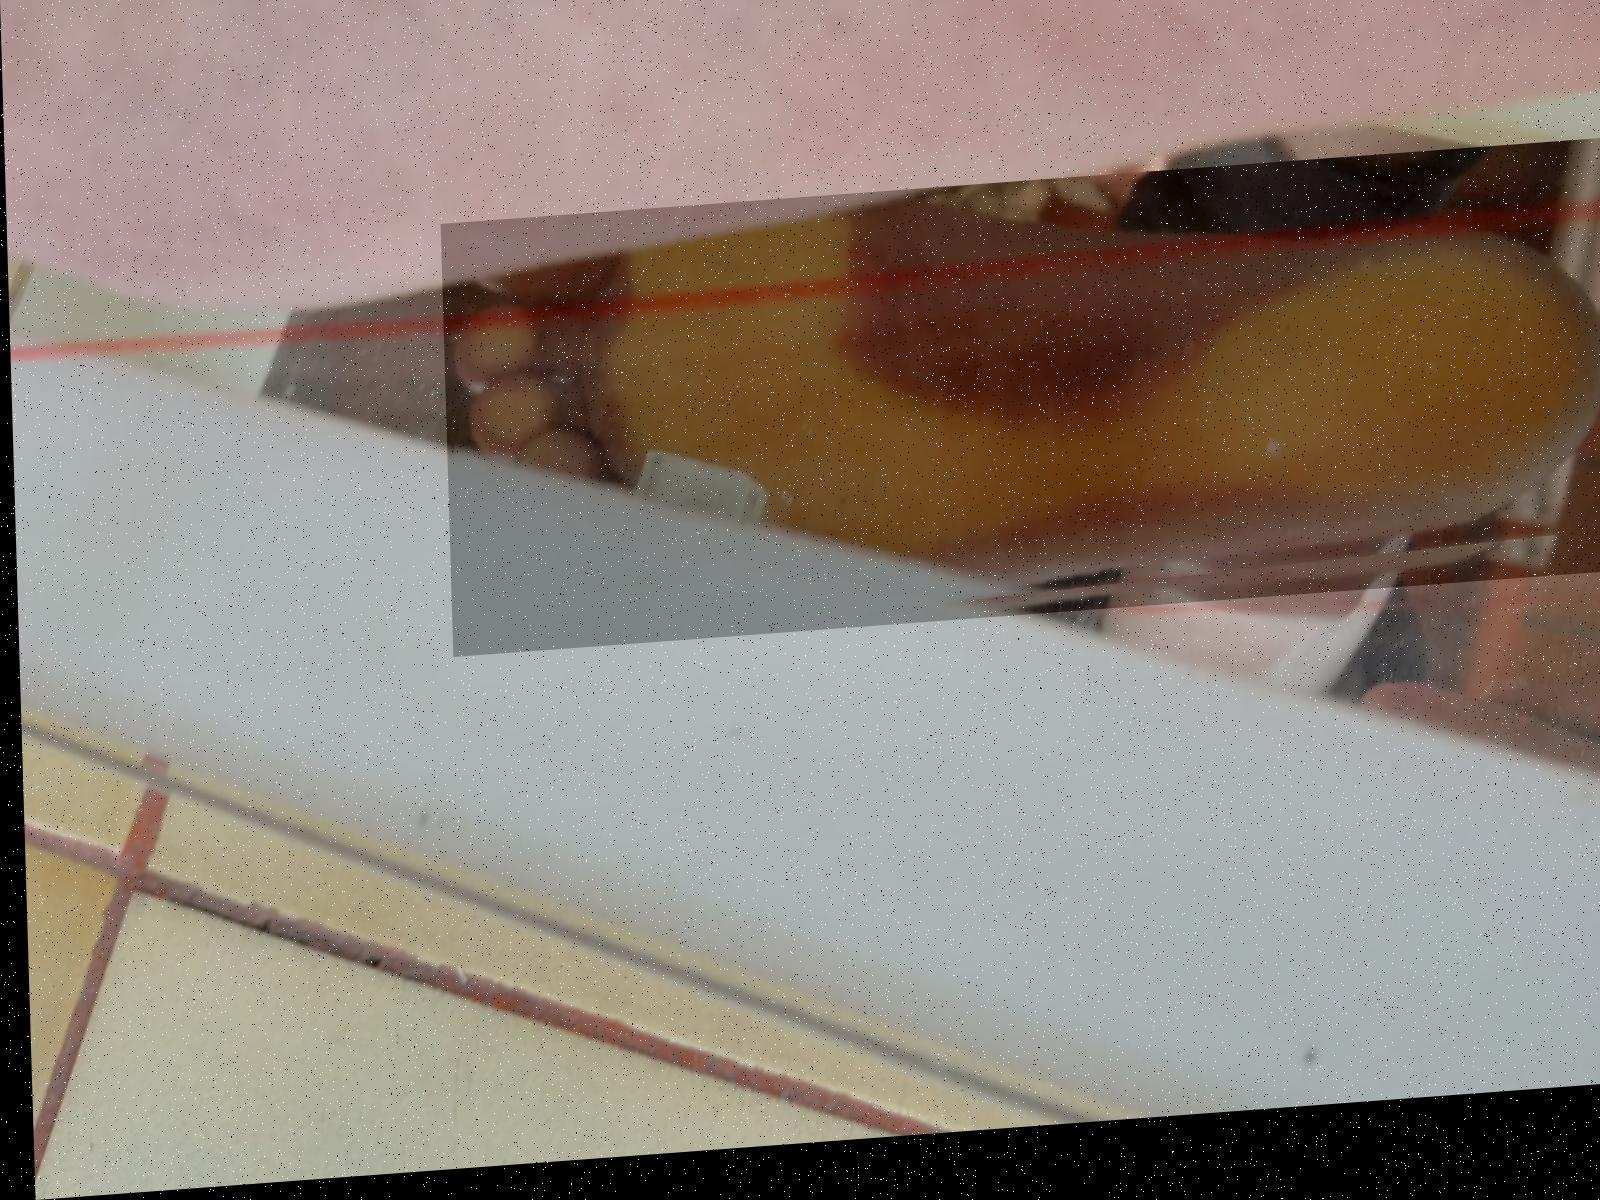Present: (438, 163, 1600, 664)
